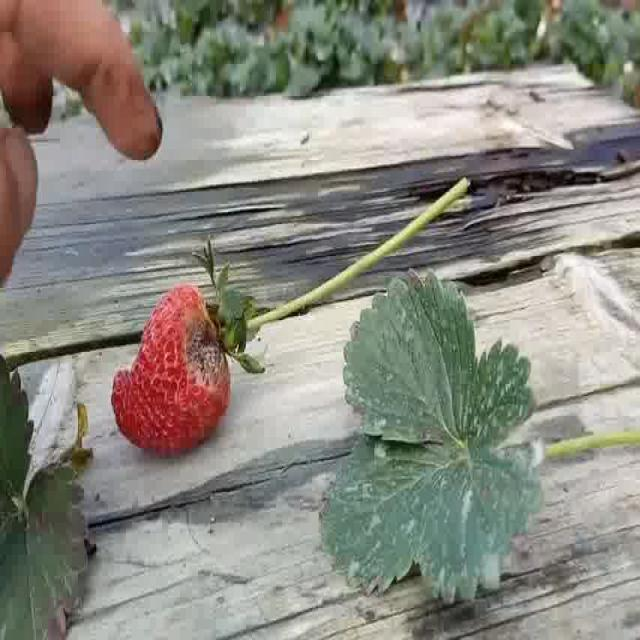Mancha negra Antracnosis: (110, 278, 232, 460)
